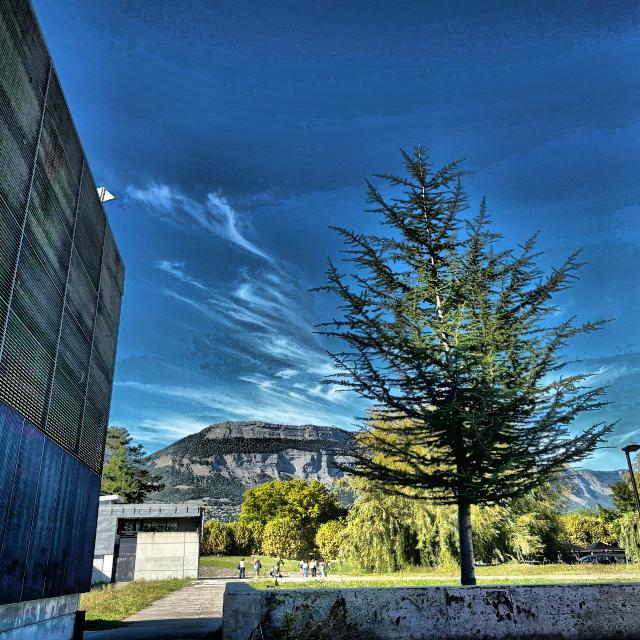arvore: (330, 144, 572, 590), (242, 478, 336, 555), (103, 426, 164, 501)
